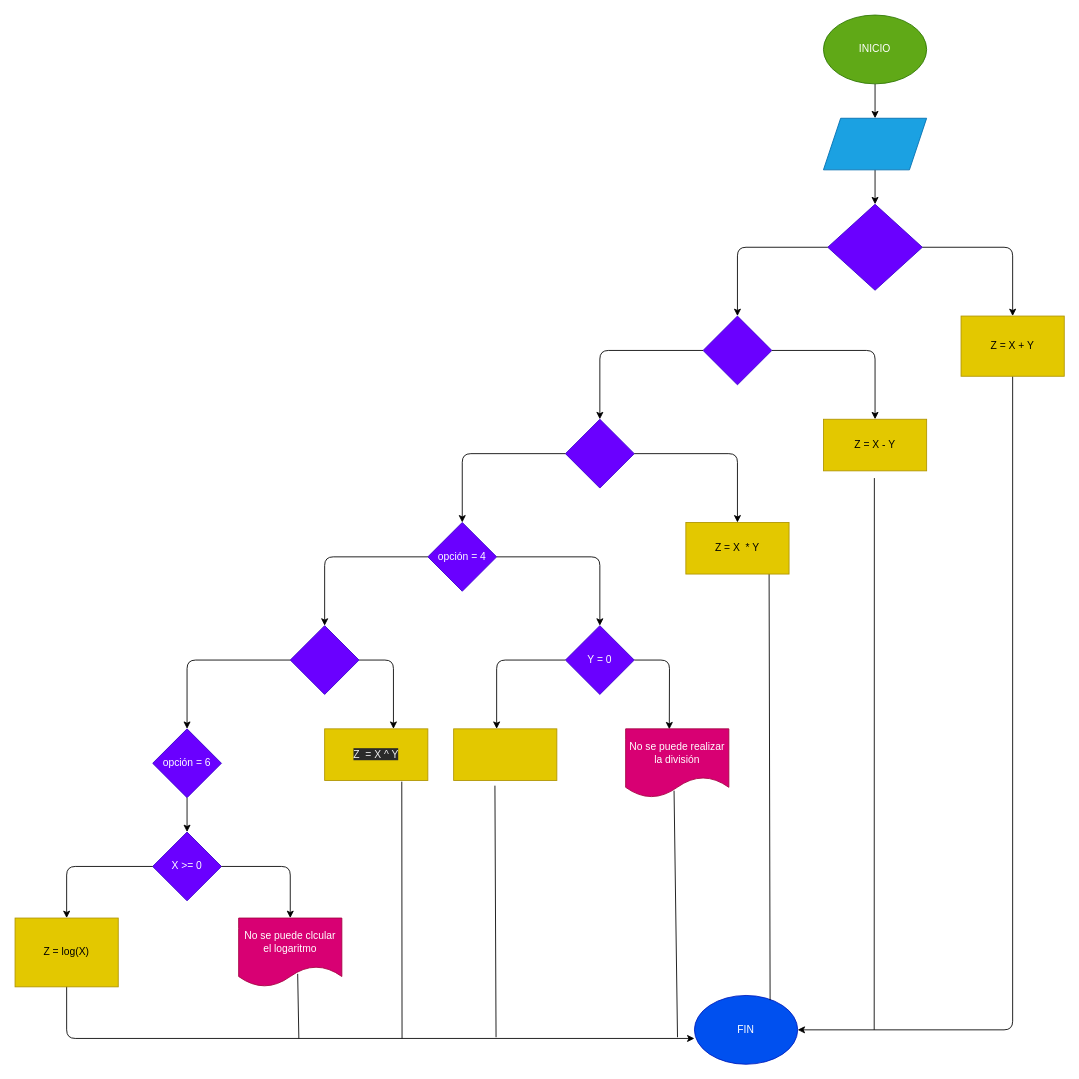
The diagram is 1079 pixels wide and 1079 high, and some of its shapes have lost their labels. The shapes that lost their labels are listed below. From the top down, each one's box as (x1, y1, x2, y2) in pixels, then its label:
(823, 117, 927, 170): x,y
(827, 203, 922, 290): opción = 1
(702, 315, 772, 385): opción = 2
(565, 418, 634, 488): opción = 3
(289, 625, 359, 694): opción = 5
(453, 728, 557, 780): Z = X / Y
